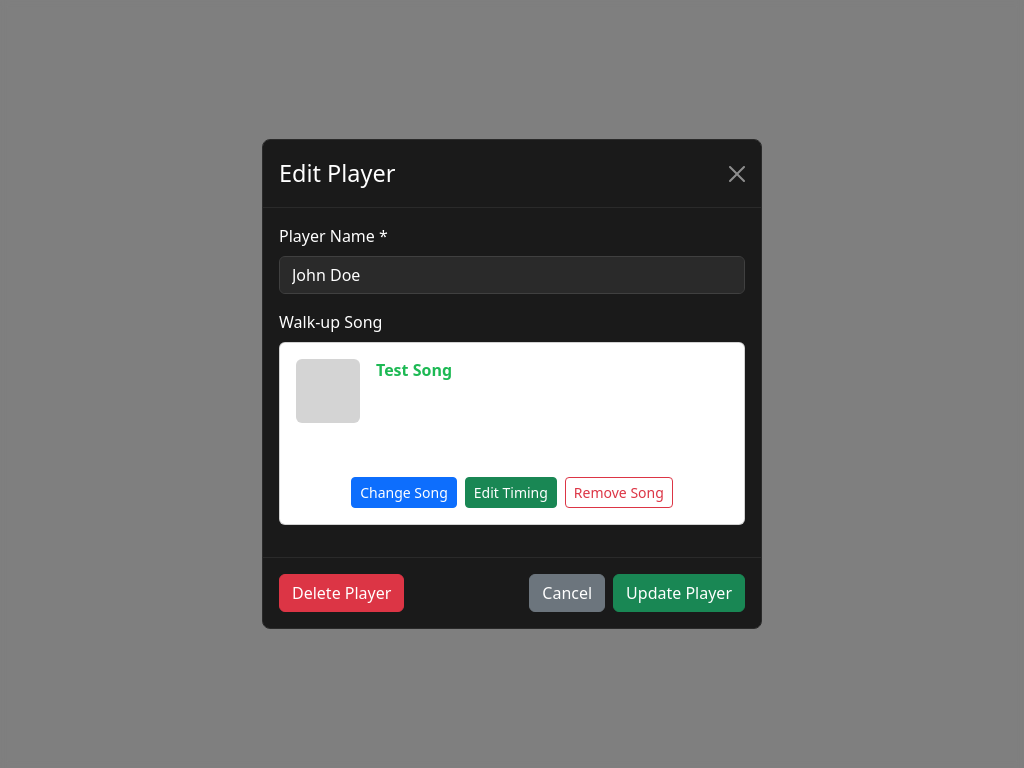
Scenario: PlayerForm › Song Management Flow › should remove song when Remove Song button is clicked
Note: When I click the Remove Song button
Click the button "Remove Song" at (619, 492), box [565, 477, 673, 508]
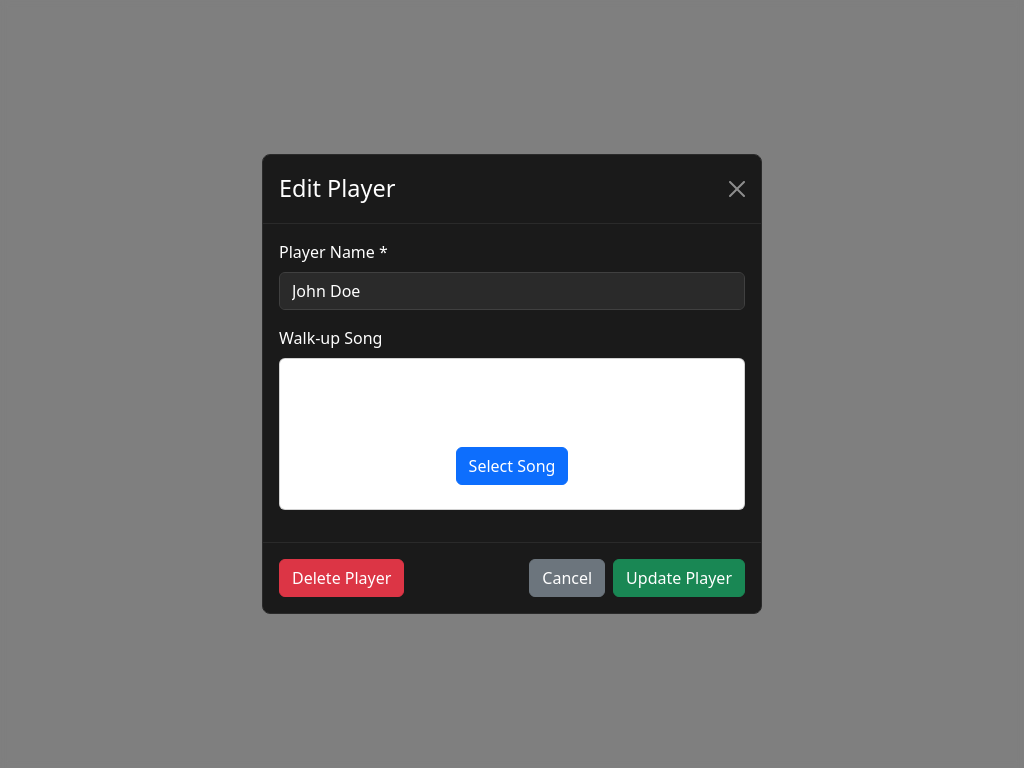
Expected: the heading "Test Song" is gone
Expected: the button "Select Song" is shown, [456, 447, 568, 485]
